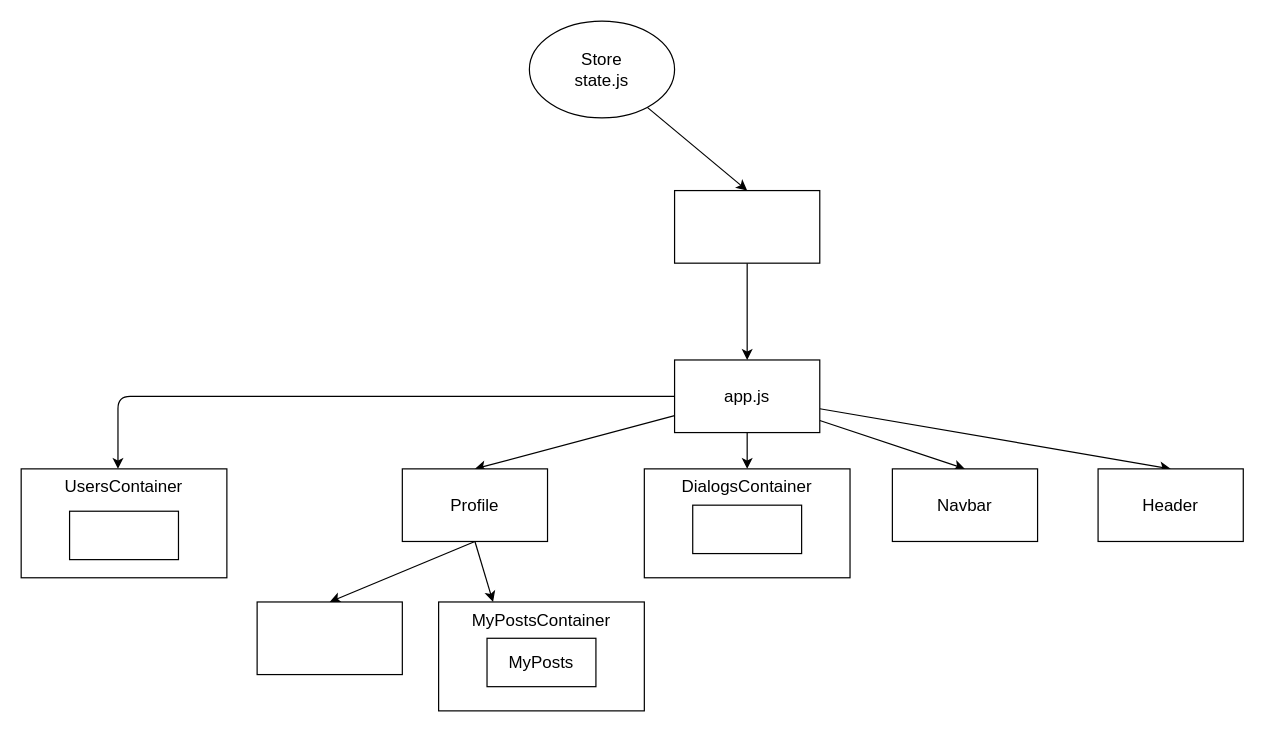
Some shapes in this 1264 by 732 pixel diagram are drawn without their labels. Here are the shapes that lost their labels. From the top down, the centre of each, then its label:
point 746,226: #index
point 123,535: Users
point 747,529: Dialogs
point 329,638: ProfileInfo
